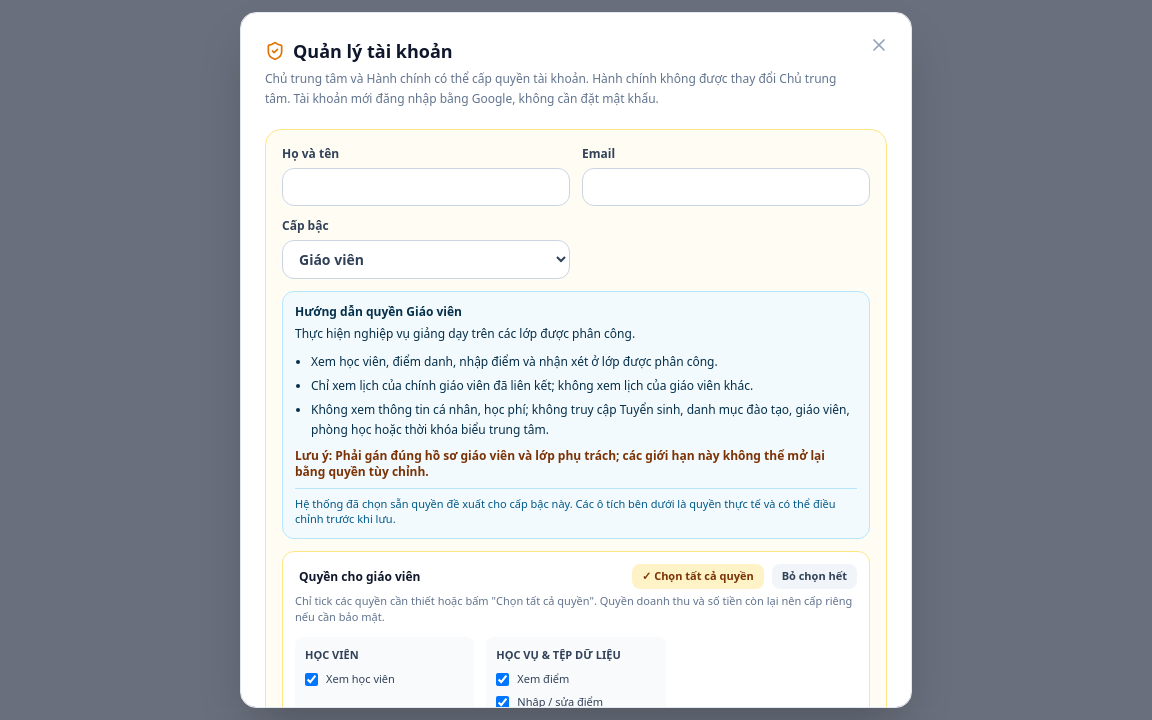
Test: offers the four account ranks and replaces the retired staff option with teacher
Step 1. Select "Hành chính" in the dropdown labelled "Cấp bậc" → (426, 260), box [282,240,570,279]
(page scrolled)
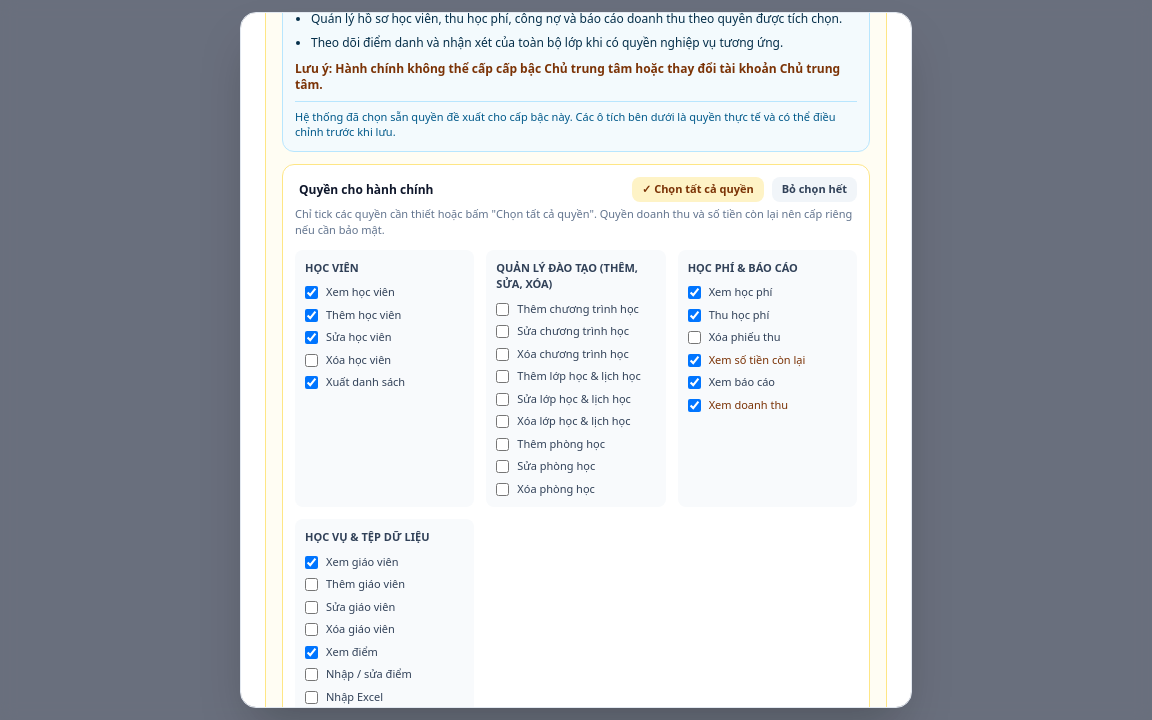
Result: the checkbox labelled "Thu học phí" is checked at [688,309,701,322]
Result: the checkbox labelled "Xóa học viên" is not checked at [305,354,318,367]
